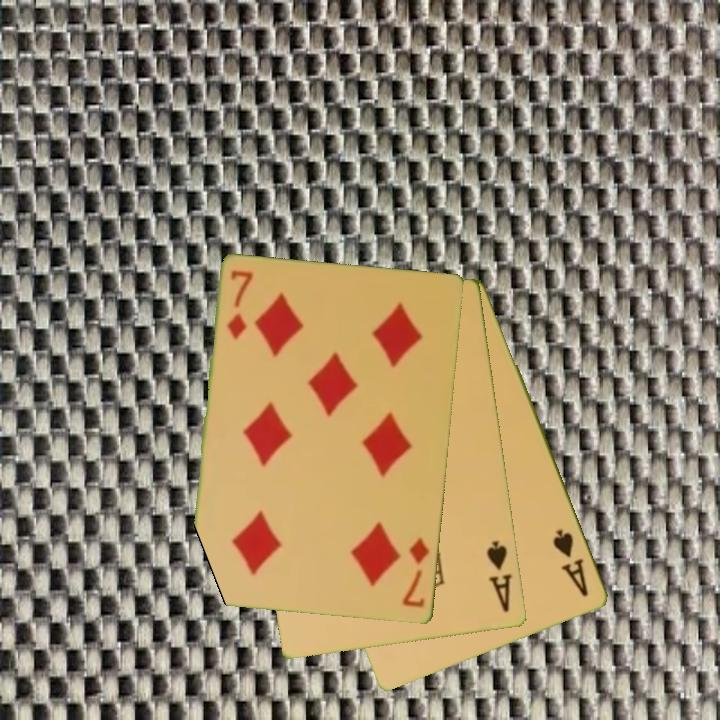7d: (399, 534, 433, 611), (224, 267, 255, 343)
As: (550, 526, 592, 600), (483, 538, 515, 616)
